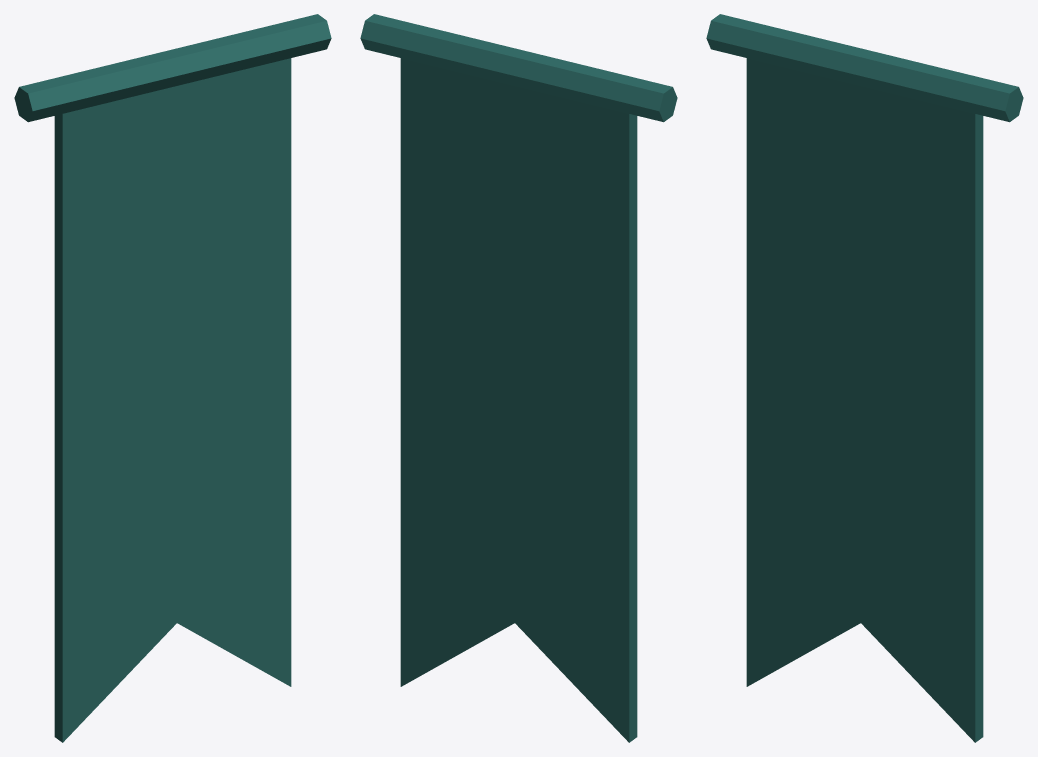
File: banner_tall.fbx
3 renders of one model, left to right at view 1: azimuth 30°, elevation 25°; view 2: azimuth 150°, elevation 25°; view 3: azimuth 330°, elevation 25°, orthographic.
Visible parts, largest first — view 1: banner_tall; view 2: banner_tall; view 3: banner_tall.
Part boxes in pixels (x1,y1,x2,y2): banner_tall: (14,14,331,742); banner_tall: (360,14,677,742); banner_tall: (706,14,1023,742).
Size of the model in its own units: 340 by 716 by 36.
